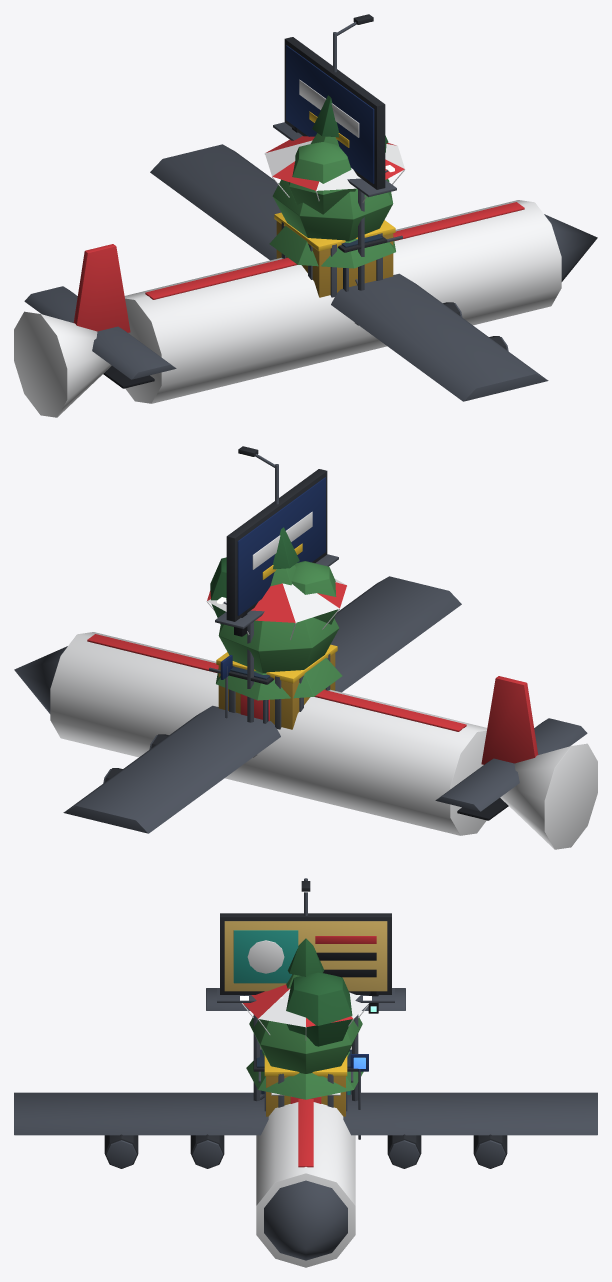
File: props.glb
The picture shows the model from 3 angles, top to bottom: view 1: azimuth 30°, elevation 25°; view 2: azimuth 150°, elevation 25°; view 3: azimuth 270°, elevation 25°; orthographic projection. The views are drawn at different scales.
Parts seen in each view (by area): view 1: plane, billboard, tree_round, crate, tree_pine, crate_Chute, bus_stop; view 2: plane, billboard, tree_round, tree_pine, crate, crate_Chute, bus_stop; view 3: plane, billboard, tree_round, tree_pine, crate, crate_Chute, bus_stop.
Part boxes in pixels (x1,y1,x2,y2): plane: [14, 144, 597, 417]; billboard: [273, 37, 396, 325]; tree_round: [272, 135, 393, 241]; crate: [274, 212, 395, 297]; tree_pine: [269, 95, 395, 268]; crate_Chute: [264, 136, 405, 202]; bus_stop: [338, 234, 402, 291]; plane: [14, 576, 597, 849]; billboard: [215, 469, 338, 757]; tree_round: [210, 557, 339, 673]; tree_pine: [216, 527, 342, 700]; crate: [216, 644, 337, 729]; crate_Chute: [206, 579, 347, 640]; bus_stop: [209, 655, 273, 723]; plane: [14, 988, 597, 1267]; billboard: [217, 913, 394, 1101]; tree_round: [249, 972, 362, 1073]; tree_pine: [246, 938, 363, 1099]; crate: [264, 1055, 347, 1116]; crate_Chute: [241, 984, 368, 1040]; bus_stop: [253, 1049, 368, 1139].
Bounding box in the file's own units: 19.5 × 10.97 × 19.
